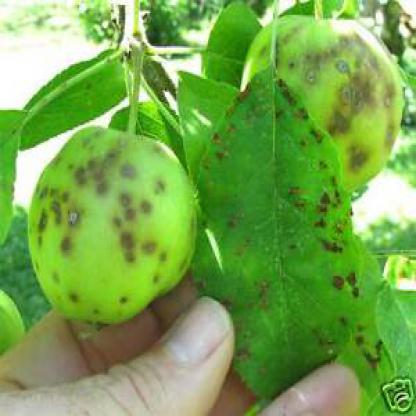Apple Scab Leaf: (193, 69, 377, 395)
